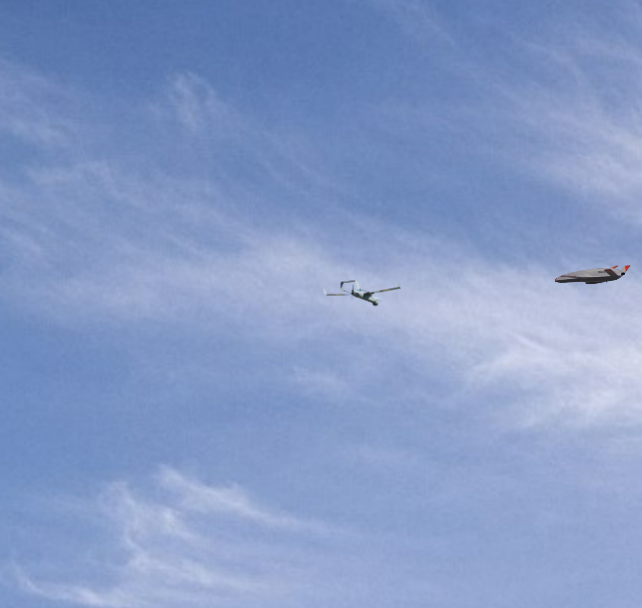military drone: (322, 278, 402, 306), (554, 264, 630, 284)
